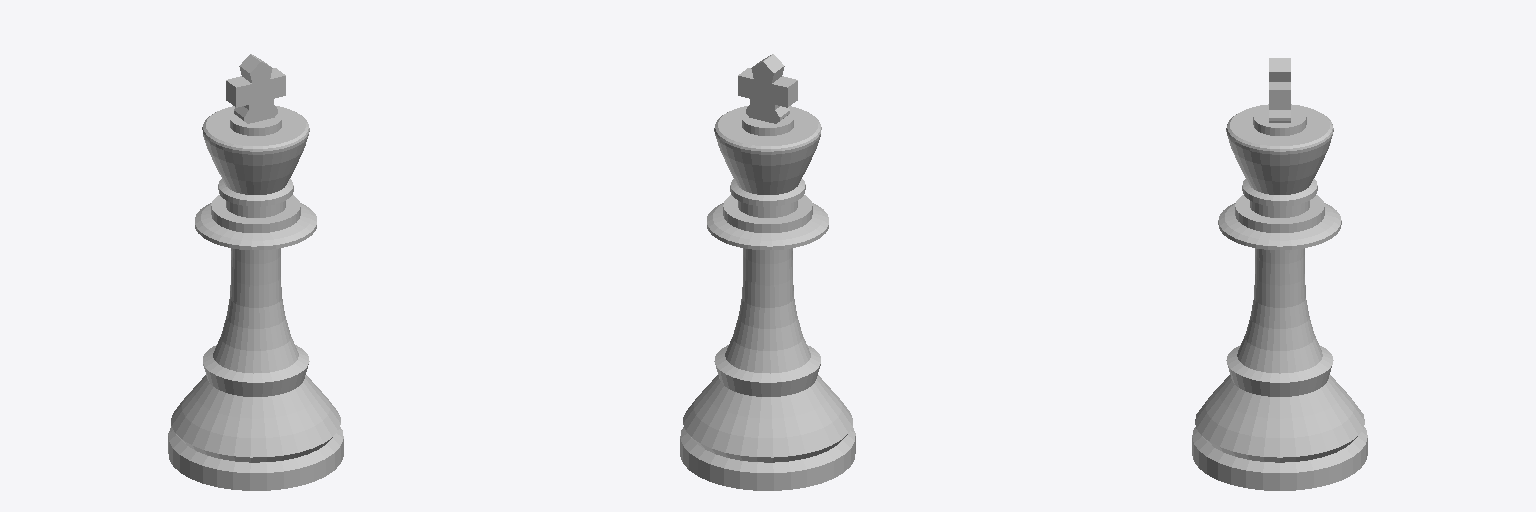
File: king.obj
3 views of the same model, side by side, from view 1: azimuth 30°, elevation 25°; view 2: azimuth 150°, elevation 25°; view 3: azimuth 270°, elevation 25° (orthographic).
Visible parts, largest first — view 1: king_Cylinder; view 2: king_Cylinder; view 3: king_Cylinder.
Part boxes in pixels (x1,y1,x2,y2): king_Cylinder: (168,54,343,490); king_Cylinder: (680,54,855,490); king_Cylinder: (1192,58,1367,490).
Size of the model in its own units: 2.5 by 6.22 by 2.5.